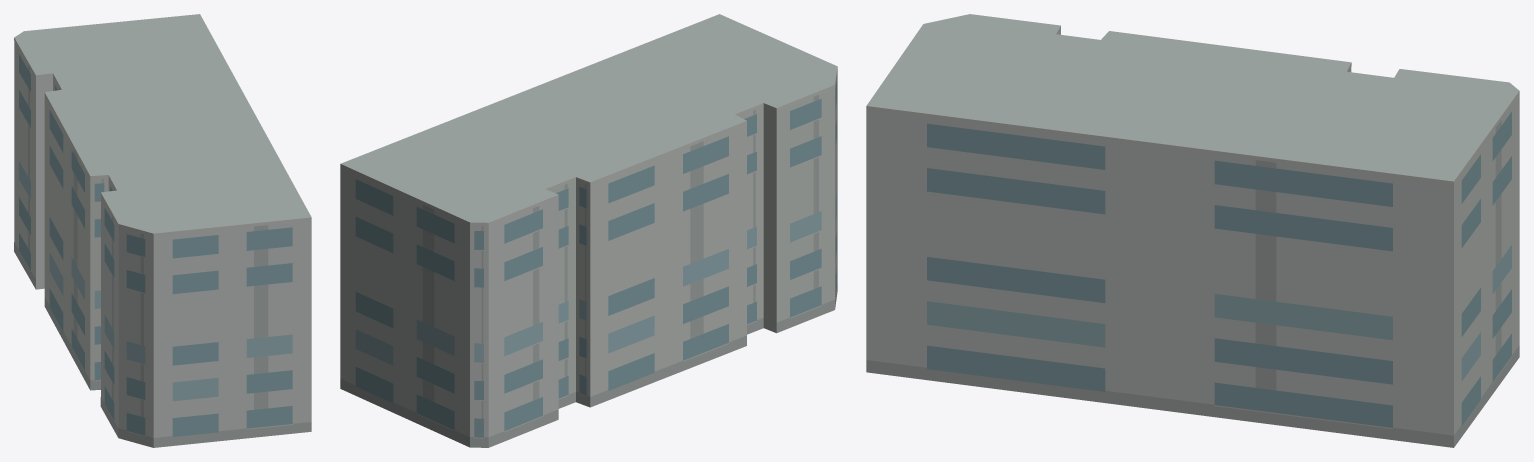
The model's file is survey-upis-32868516.glb.
3 renders of one model, left to right at view 1: azimuth 30°, elevation 25°; view 2: azimuth 150°, elevation 25°; view 3: azimuth 270°, elevation 25°, orthographic. The views are drawn at different scales.
Parts seen in each view (by area): view 1: survey-upis-32868516.tmp; view 2: survey-upis-32868516.tmp; view 3: survey-upis-32868516.tmp.
Part boxes in pixels (left/top/right/bottom): survey-upis-32868516.tmp: left=14, top=14, right=311, bottom=447; survey-upis-32868516.tmp: left=340, top=14, right=837, bottom=447; survey-upis-32868516.tmp: left=866, top=14, right=1519, bottom=447.
Size of the model in its own units: 22 by 16.3 by 36.24.
